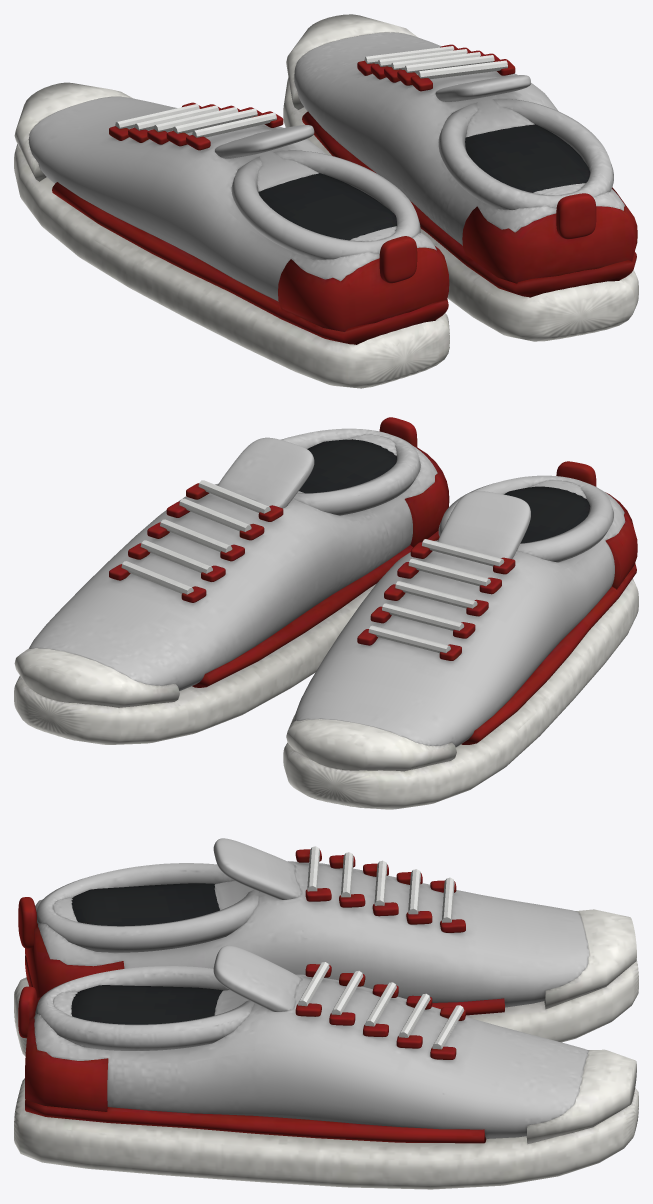
The model's file is black-red.glb.
3 views of the same model, one above another, from view 1: azimuth 30°, elevation 25°; view 2: azimuth 150°, elevation 25°; view 3: azimuth 270°, elevation 25° (orthographic). The views are drawn at different scales.
Visible parts, largest first — view 1: fabric_primary_upper, sole_rubber, accent, lining_dark, laces; view 2: fabric_primary_upper, sole_rubber, accent, laces, lining_dark; view 3: fabric_primary_upper, sole_rubber, accent, lining_dark, laces.
Boxes of the visible parts, <box> form: fabric_primary_upper: <box>28,32,624,301</box>; sole_rubber: <box>14,14,638,388</box>; accent: <box>52,44,637,344</box>; lining_dark: <box>258,124,590,240</box>; laces: <box>115,46,507,137</box>; fabric_primary_upper: <box>29,428,625,747</box>; sole_rubber: <box>14,578,638,809</box>; accent: <box>109,417,637,744</box>; laces: <box>121,480,504,653</box>; lining_dark: <box>299,439,590,543</box>; fabric_primary_upper: <box>34,838,589,1138</box>; sole_rubber: <box>14,909,638,1189</box>; accent: <box>18,849,504,1143</box>; lining_dark: <box>71,883,222,1024</box>; laces: <box>297,846,464,1049</box>.
Bounding box in the file's own units: 0.2458 × 0.0997 × 0.2957.
Materials: 5 (5 with a texture image).
